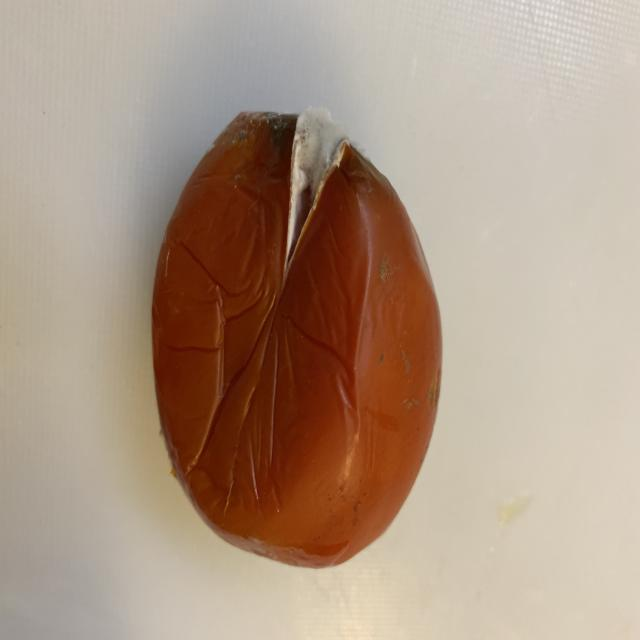Wet Waste: (135, 100, 475, 573)
